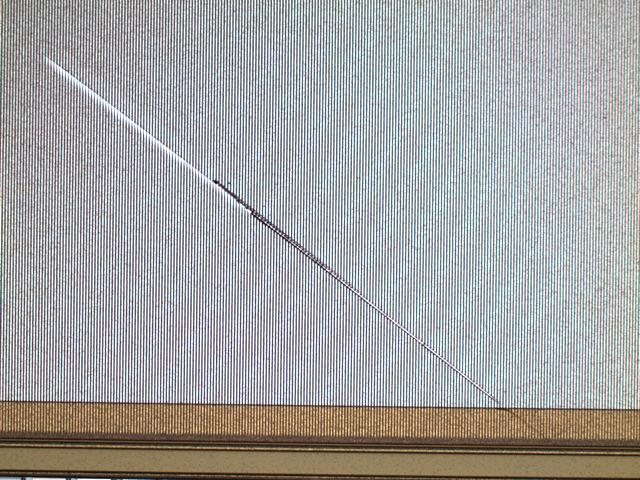SCRATCH: (30, 42, 555, 442)
